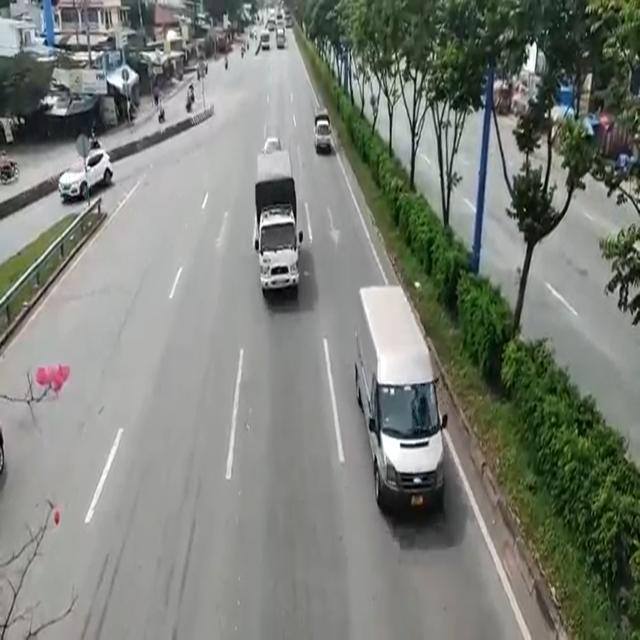car: (352, 291, 450, 514)
truck: (258, 153, 299, 306), (313, 104, 338, 164)
